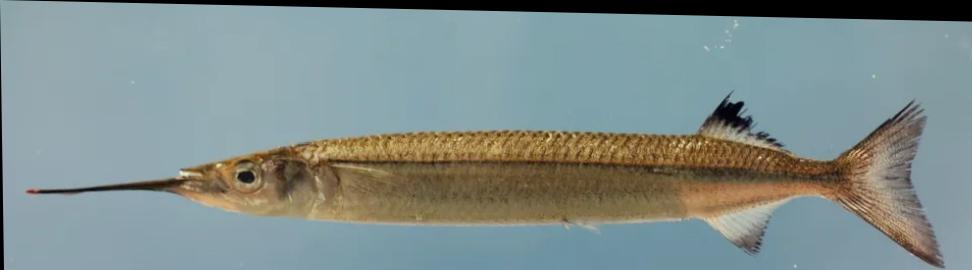fish: (26, 94, 947, 264)
